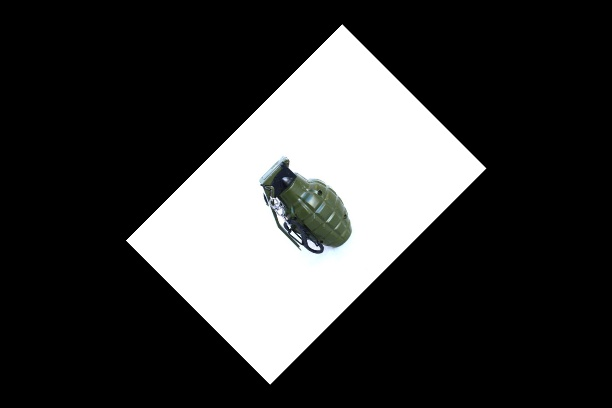e1: (258, 156, 350, 252)
